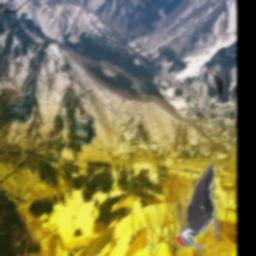Woodpecker: (176, 161, 221, 251), (210, 65, 225, 108)
